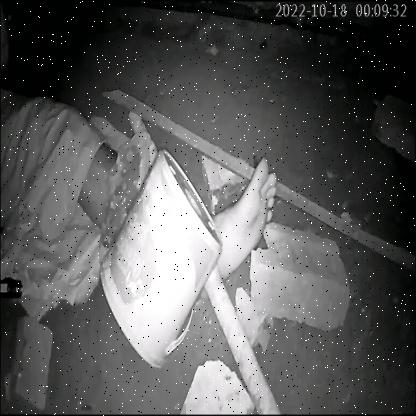leg: (196, 152, 306, 278)
